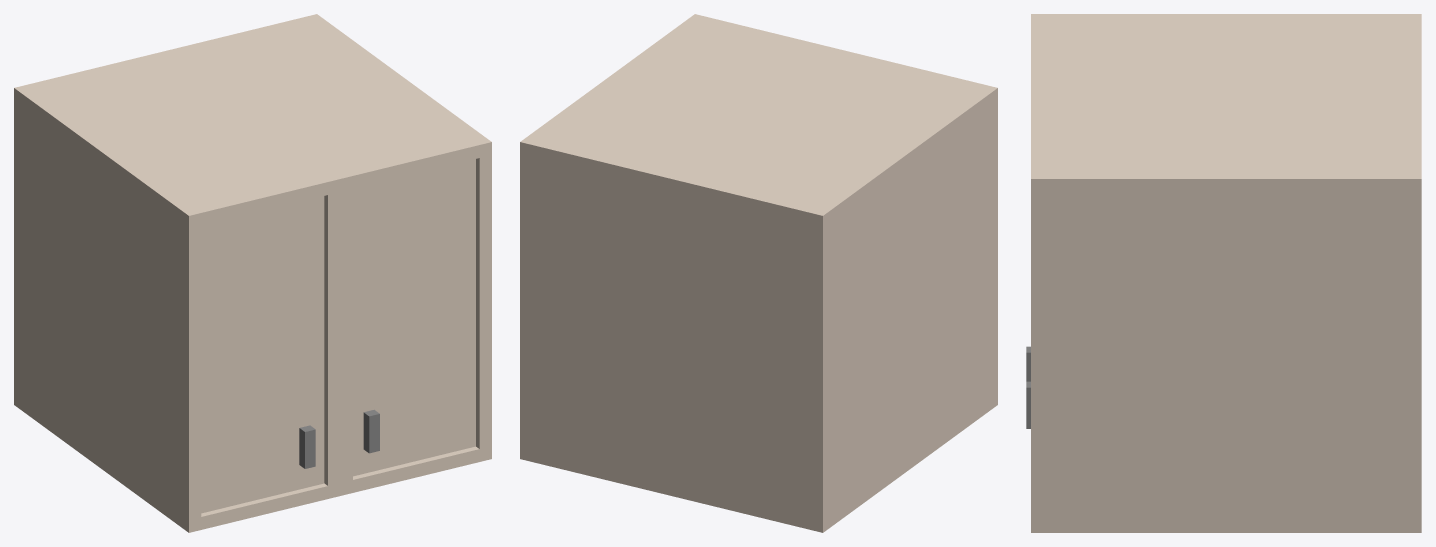
Rendered from cabinet.glb.
3 views of the same model, side by side, from view 1: azimuth 30°, elevation 25°; view 2: azimuth 150°, elevation 25°; view 3: azimuth 270°, elevation 25° (orthographic). The views are drawn at different scales.
Visible parts, largest first — view 1: Cabinet; view 2: Cabinet; view 3: Cabinet.
Boxes of the visible parts, <box> form: Cabinet: <box>14,14,491,532</box>; Cabinet: <box>520,14,997,532</box>; Cabinet: <box>1026,14,1421,532</box>.
Bounding box in the file's own units: 1 × 1 × 1.01.
